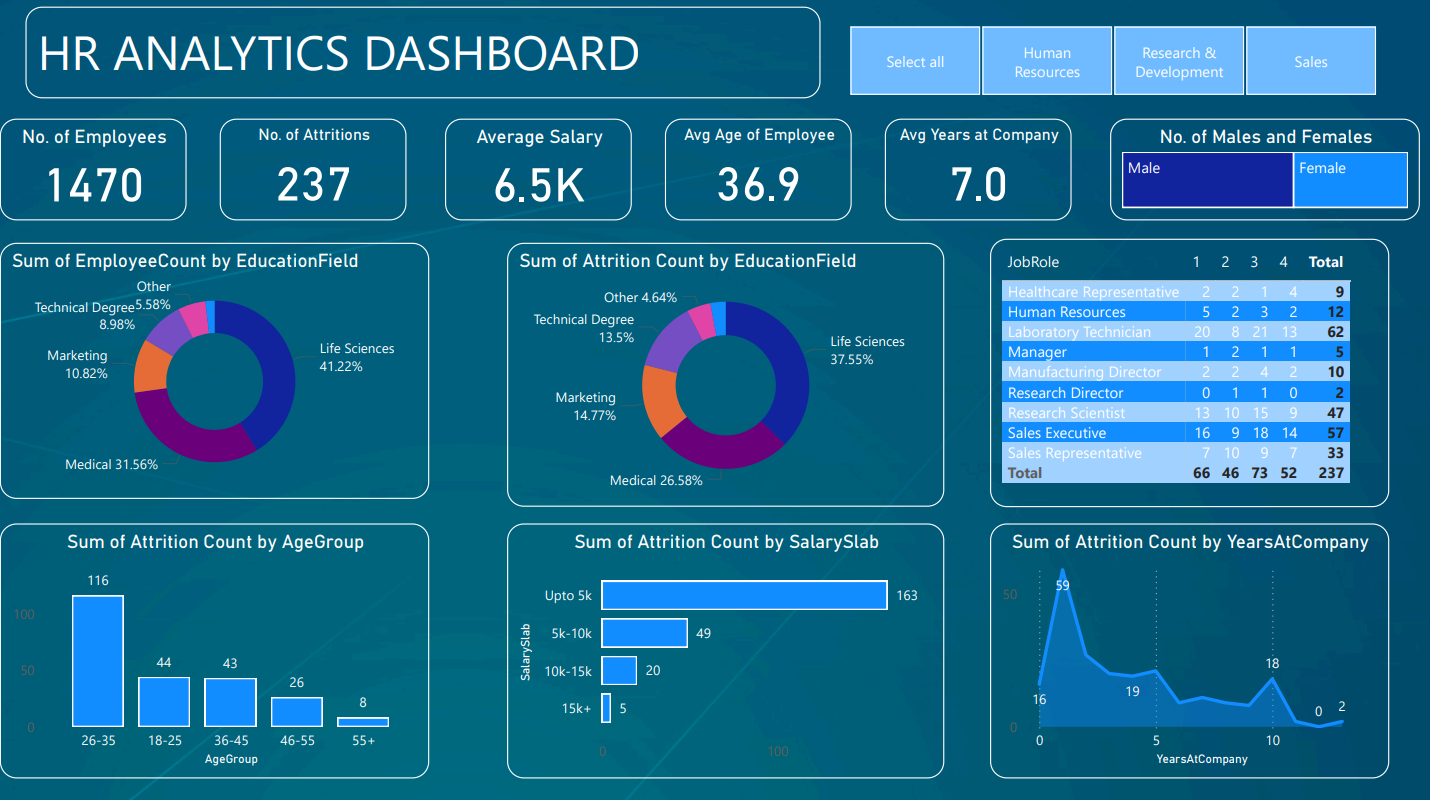

This screenshot's page, from the dashboard's own definition file:
{"tool":"powerbi","page":{"name":"Page 1","canvas":[1280,720],"ordinal":0},"visuals":[{"type":"card","title":"No. of Employees","fields":{"Values":["CountNonNull(HR_Analytics.Attrition Count)"]},"box":[0,109.8,167.4,90.6],"z":0},{"type":"card","title":"No. of Attritions","fields":{"Values":["Sum(HR_Analytics.Attrition Count)"]},"box":[196.5,110.3,167.4,90.6],"z":1000},{"type":"card","title":"Average Salary","fields":{"Values":["Avg(HR_Analytics.MonthlyIncome)"]},"box":[398.2,110.3,167.4,90.6],"z":2000},{"type":"card","title":"Avg Age of Employee","fields":{"Values":["Avg(HR_Analytics.Age)"]},"box":[594.4,110.3,167.4,90.6],"z":3000},{"type":"card","title":"Avg Years at Company","fields":{"Values":["Avg(HR_Analytics.YearsAtCompany)"]},"box":[791.8,109.8,167.4,90.6],"z":4000},{"type":"treemap","title":"No. of Males and Females","fields":{"Values":["Sum(HR_Analytics.EmployeeCount)"],"Group":["HR_Analytics.Gender"]},"box":[993.5,109.8,277.2,90.6],"z":5000},{"type":"slicer","fields":{"Values":["HR_Analytics.Department"]},"box":[734.1,20.6,520.1,75.5],"z":6000},{"type":"donutChart","fields":{"Category":["HR_Analytics.EducationField"],"Y":["Sum(HR_Analytics.EmployeeCount)"]},"box":[0,220.9,384.2,229.2],"z":7000},{"type":"columnChart","fields":{"Category":["HR_Analytics.AgeGroup"],"Y":["Sum(HR_Analytics.Attrition Count)"]},"box":[0,472,384.2,227.8],"z":8000},{"type":"donutChart","fields":{"Category":["HR_Analytics.EducationField"],"Y":["Sum(HR_Analytics.Attrition Count)"]},"box":[454.2,220.9,391.1,236],"z":9000},{"type":"barChart","fields":{"Category":["HR_Analytics.SalarySlab"],"Y":["Sum(HR_Analytics.Attrition Count)"]},"box":[454.2,472,391.1,227.8],"z":10000},{"type":"pivotTable","fields":{"Rows":["HR_Analytics.JobRole"],"Columns":["HR_Analytics.JobSatisfaction"],"Values":["Sum(HR_Analytics.Attrition Count)"]},"box":[885.1,216.8,356.8,240.1],"z":11000},{"type":"areaChart","fields":{"Category":["HR_Analytics.YearsAtCompany"],"Y":["Sum(HR_Analytics.Attrition Count)"]},"box":[885.1,472,356.8,227.8],"z":12000},{"type":"textbox","box":[23.3,9.6,710.8,82.3],"z":13000}]}

Visuals, with their boxes in screenshot pixels (x1, y1, x2, y2), scaled from the page's 1280x720 canvas onto the 1430x800 screenshot:
"No. of Employees" card: 0/122/187/223
"No. of Attritions" card: 220/123/407/223
"Average Salary" card: 445/123/632/223
"Avg Age of Employee" card: 664/123/851/223
"Avg Years at Company" card: 885/122/1072/223
"No. of Males and Females" treemap: 1110/122/1420/223
slicer - HR_Analytics.Department: 820/23/1401/107
donutChart - HR_Analytics.EducationField x Sum(HR_Analytics.EmployeeCount): 0/245/429/500
columnChart - HR_Analytics.AgeGroup x Sum(HR_Analytics.Attrition Count): 0/524/429/778
donutChart - HR_Analytics.EducationField x Sum(HR_Analytics.Attrition Count): 507/245/944/508
barChart - HR_Analytics.SalarySlab x Sum(HR_Analytics.Attrition Count): 507/524/944/778
pivotTable - HR_Analytics.JobRole x HR_Analytics.JobSatisfaction: 989/241/1387/508
areaChart - HR_Analytics.YearsAtCompany x Sum(HR_Analytics.Attrition Count): 989/524/1387/778
textbox: 26/11/820/102
